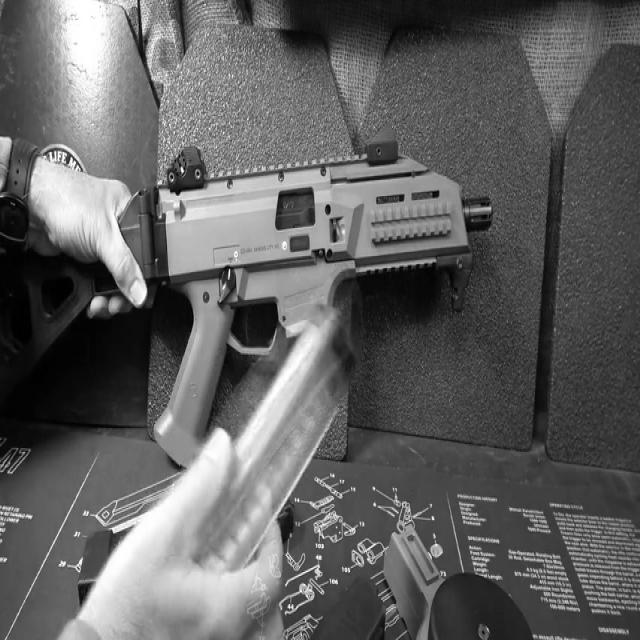Sub-machine-gun: (87, 126, 500, 511)
